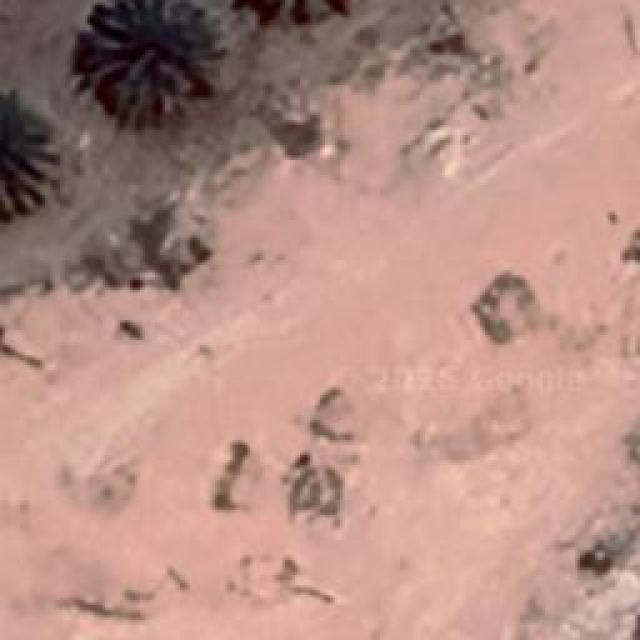PalmTree: (82, 0, 210, 110), (0, 90, 55, 212), (230, 0, 362, 31)
